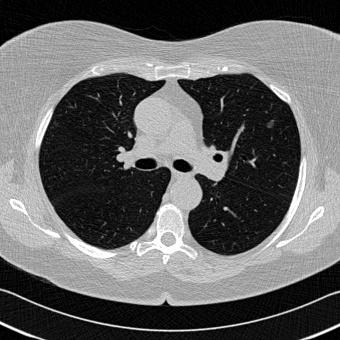PN: (267, 121, 273, 127)
